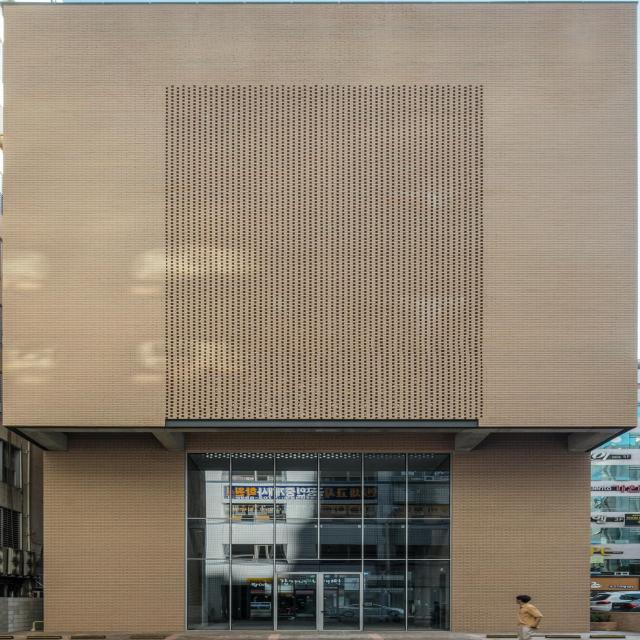door: (271, 571, 368, 632)
wall: (0, 0, 639, 636)
windows: (186, 452, 450, 634)
